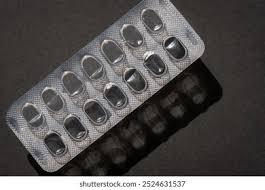pill_Strip: (6, 0, 204, 171)
